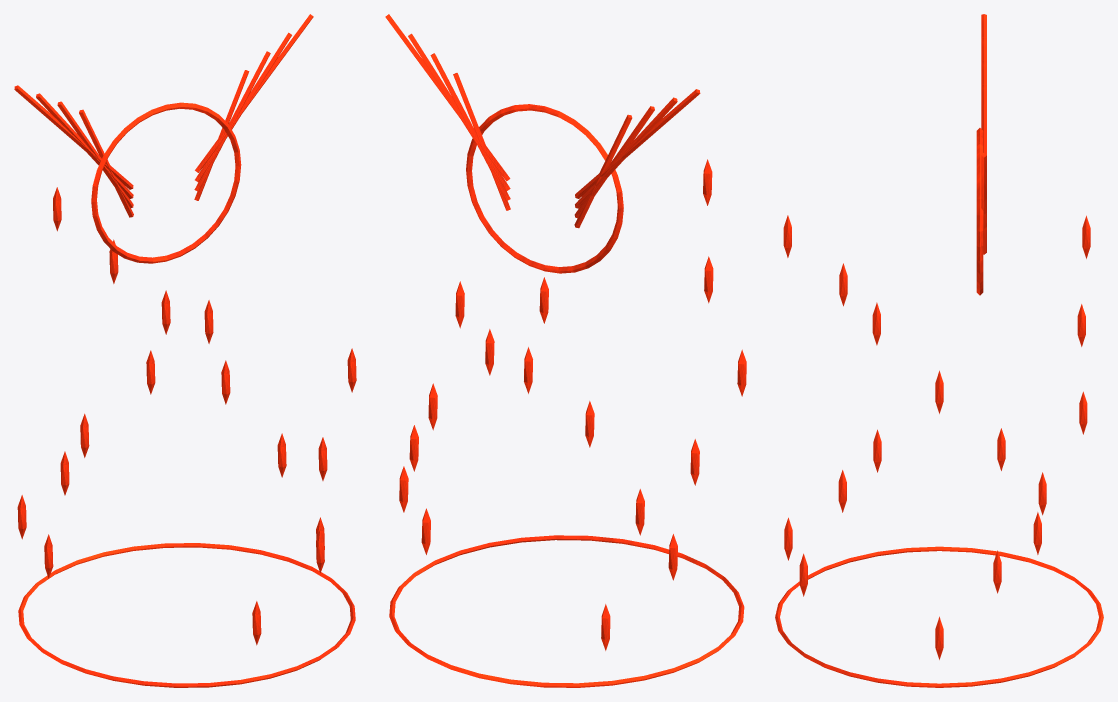
File: aura-fire.glb
3 views of the same model, side by side, from view 1: azimuth 30°, elevation 25°; view 2: azimuth 150°, elevation 25°; view 3: azimuth 270°, elevation 25° (orthographic). The views are drawn at different scales.
Visible parts, largest first — view 1: GroundRing, BackHalo, WingRay.003, WingRay.007, WingRay.006, WingRay.002, WingRay.005, WingRay.001, WingRay, WingRay.004; view 2: GroundRing, BackHalo, WingRay.003, WingRay.007, WingRay.006, WingRay.002, WingRay.005, WingRay.001, WingRay, WingRay.004; view 3: GroundRing, BackHalo.
Part boxes in pixels (left/top/right/bottom): GroundRing: left=18, top=543, right=355, bottom=687; BackHalo: left=91, top=102, right=241, bottom=263; WingRay.003: left=14, top=85, right=133, bottom=189; WingRay.007: left=195, top=14, right=313, bottom=172; WingRay.006: left=195, top=32, right=291, bottom=182; WingRay.002: left=36, top=93, right=133, bottom=198; WingRay.005: left=194, top=51, right=270, bottom=191; WingRay.001: left=57, top=101, right=133, bottom=208; WingRay: left=79, top=109, right=133, bottom=217; WingRay.004: left=194, top=70, right=249, bottom=200; GroundRing: left=389, top=535, right=744, bottom=687; BackHalo: left=466, top=104, right=623, bottom=273; WingRay.003: left=575, top=89, right=700, bottom=198; WingRay.007: left=385, top=14, right=510, bottom=181; WingRay.006: left=408, top=33, right=510, bottom=191; WingRay.002: left=575, top=97, right=677, bottom=208; WingRay.005: left=430, top=53, right=510, bottom=200; WingRay.001: left=574, top=106, right=654, bottom=218; WingRay: left=574, top=114, right=632, bottom=228; WingRay.004: left=453, top=73, right=510, bottom=210; GroundRing: left=775, top=546, right=1103, bottom=687; BackHalo: left=976, top=128, right=983, bottom=295.
Bounding box in the file's own units: 0.8302 × 1.46 × 0.812.
1 material, 1 textured.
